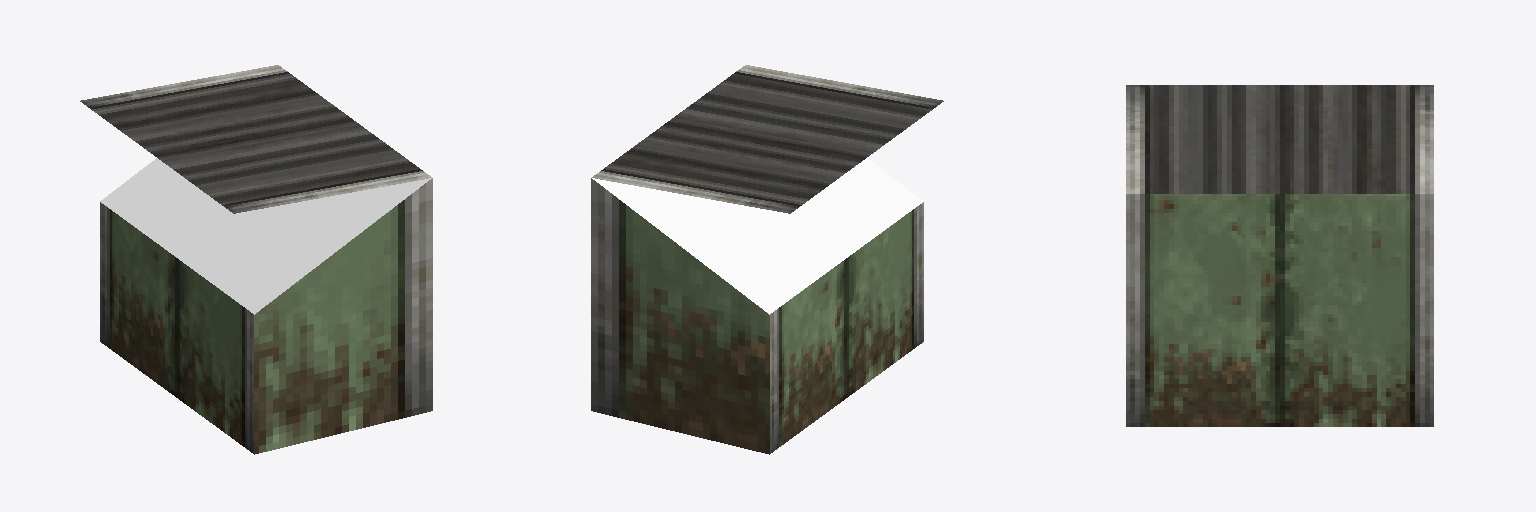
3 views of the same model, side by side, from view 1: azimuth 30°, elevation 25°; view 2: azimuth 150°, elevation 25°; view 3: azimuth 270°, elevation 25° (orthographic).
Parts seen in each view (by area): view 1: detailDumpster_open; view 2: detailDumpster_open; view 3: detailDumpster_open.
Boxes of the visible parts, box(x1,y1,x2,y2) form: detailDumpster_open: box(80, 65, 432, 454); detailDumpster_open: box(591, 65, 943, 454); detailDumpster_open: box(1126, 85, 1433, 426).
Bounding box in the file's own units: 0.4464 × 0.5268 × 0.6.
Materials: 4 (3 with a texture image).